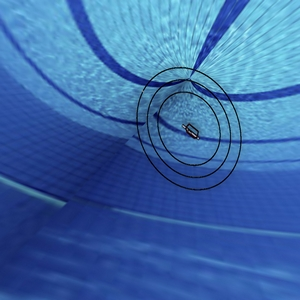circle: (128, 54, 251, 205)
submarine: (175, 113, 206, 151)
